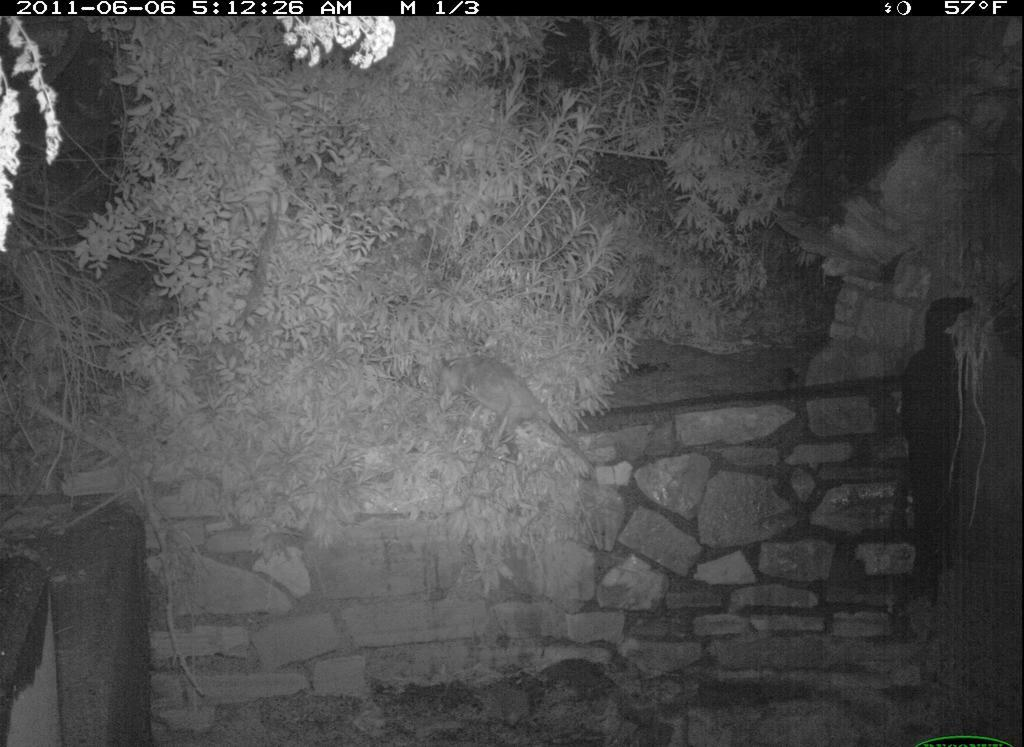opossum: (429, 349, 603, 495)
